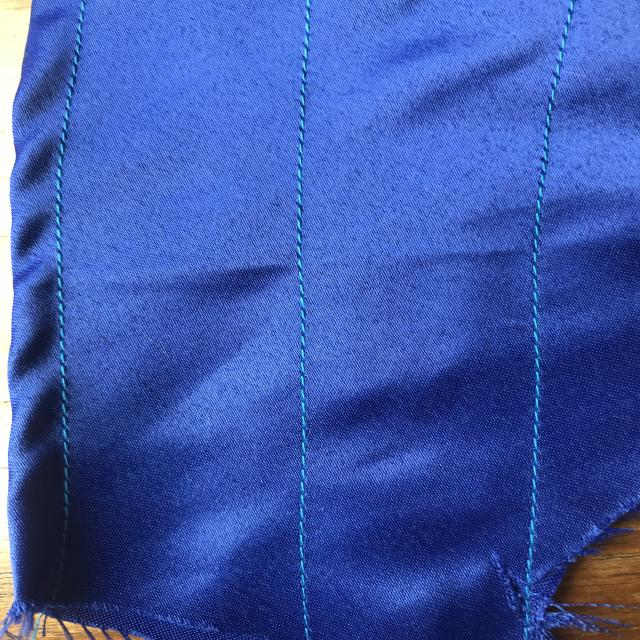good: (279, 185, 319, 306)
